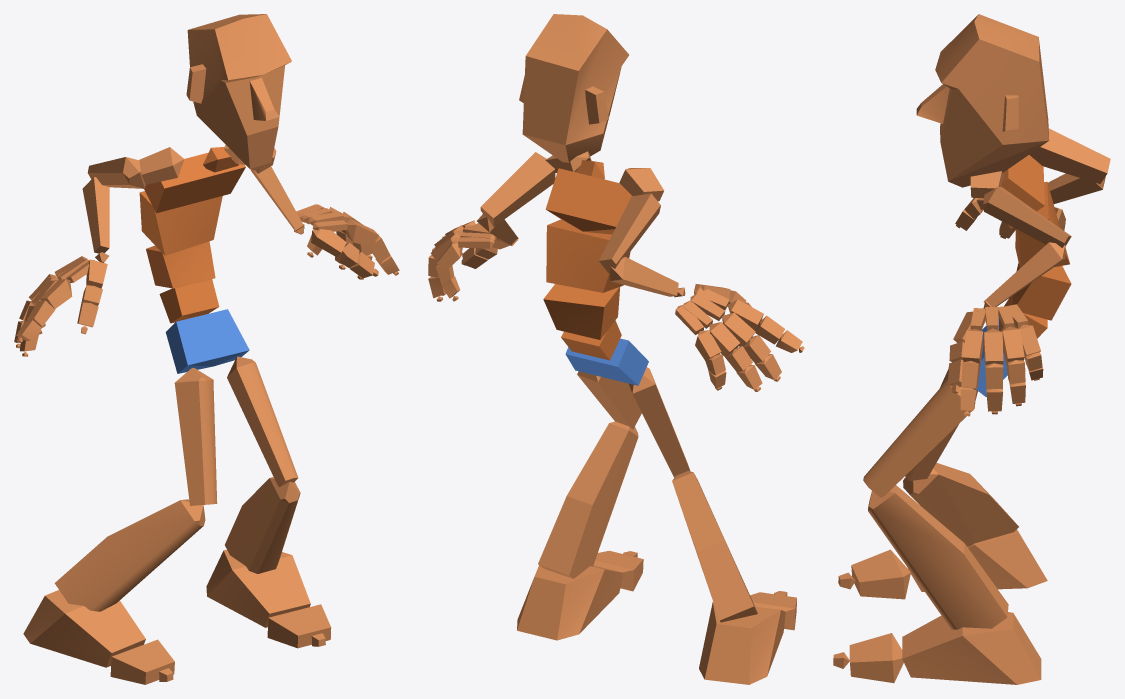
The model's file is personaje314.obj.
3 renders of one model, left to right at view 1: azimuth 30°, elevation 25°; view 2: azimuth 150°, elevation 25°; view 3: azimuth 270°, elevation 25°, orthographic. The views are drawn at different scales.
Parts seen in each view (by area): view 1: BOPED_Head, BOPED_R_leg, BOPED_R_foot, BOPED_R_foot01, BOPED_L_leg, BOPED_R_legup, BOPED_L_legup, Bone01, Bone04, Bone05, Bone03, BOPED_R_foot_toe01 (+10 smaller); view 2: BOPED_Head, BOPED_L_leg, BOPED_R_foot01, BOPED_R_foot, BOPED_R_leg, Bone05, Bone04, Bone03, BOPED_L_arm_upper, BOPED_R_legup, BOPED_R_arm_upper, Bone01 (+9 smaller); view 3: BOPED_Head, BOPED_L_leg, BOPED_R_foot01, BOPED_R_leg, BOPED_L_legup, BOPED_R_foot, BOPED_R_arm_upper, BOPED_L_arm_upper, BOPED_R_foot_toe01, BOPED_R_foot_toe04, Bone03, BOPED_L_arm_fore (+13 smaller).
Boxes of the visible parts, x1=… form: BOPED_Head: x1=186, y1=14, x2=291, y2=170; BOPED_R_leg: x1=54, y1=499, x2=205, y2=611; BOPED_R_foot: x1=23, y1=590, x2=145, y2=667; BOPED_R_foot01: x1=206, y1=549, x2=310, y2=627; BOPED_L_leg: x1=225, y1=477, x2=300, y2=573; BOPED_R_legup: x1=174, y1=367, x2=217, y2=505; BOPED_L_legup: x1=227, y1=356, x2=298, y2=487; Bone01: x1=165, y1=309, x2=249, y2=373; Bone04: x1=139, y1=191, x2=222, y2=255; Bone05: x1=144, y1=152, x2=245, y2=213; Bone03: x1=146, y1=241, x2=215, y2=288; BOPED_R_foot_toe01: x1=110, y1=639, x2=174, y2=684; BOPED_Head: x1=519, y1=14, x2=629, y2=162; BOPED_L_leg: x1=538, y1=421, x2=638, y2=578; BOPED_R_foot01: x1=517, y1=565, x2=623, y2=640; BOPED_R_foot: x1=699, y1=602, x2=785, y2=684; BOPED_R_leg: x1=672, y1=471, x2=757, y2=622; Bone05: x1=545, y1=168, x2=632, y2=234; Bone04: x1=546, y1=219, x2=630, y2=292; Bone03: x1=543, y1=284, x2=619, y2=339; BOPED_L_arm_upper: x1=480, y1=152, x2=555, y2=226; BOPED_R_legup: x1=629, y1=367, x2=690, y2=477; BOPED_R_arm_upper: x1=599, y1=193, x2=660, y2=273; Bone01: x1=565, y1=338, x2=648, y2=385; BOPED_Head: x1=916, y1=14, x2=1049, y2=187; BOPED_L_leg: x1=868, y1=485, x2=1008, y2=629; BOPED_R_foot01: x1=902, y1=612, x2=1041, y2=684; BOPED_R_leg: x1=903, y1=462, x2=1018, y2=546; BOPED_L_legup: x1=863, y1=379, x2=975, y2=497; BOPED_R_foot: x1=907, y1=529, x2=1047, y2=591; BOPED_R_arm_upper: x1=1029, y1=128, x2=1110, y2=183; BOPED_L_arm_upper: x1=983, y1=187, x2=1071, y2=247; BOPED_R_foot_toe01: x1=851, y1=549, x2=910, y2=599; BOPED_R_foot_toe04: x1=849, y1=633, x2=903, y2=683; Bone03: x1=1013, y1=263, x2=1071, y2=320; BOPED_L_arm_fore: x1=983, y1=242, x2=1065, y2=306.
Bounding box in the file's own units: 111 × 168 × 65.79.
